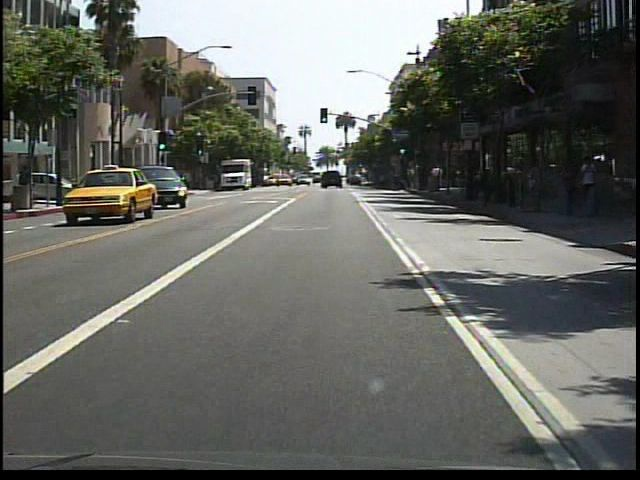person: (577, 153, 603, 192)
